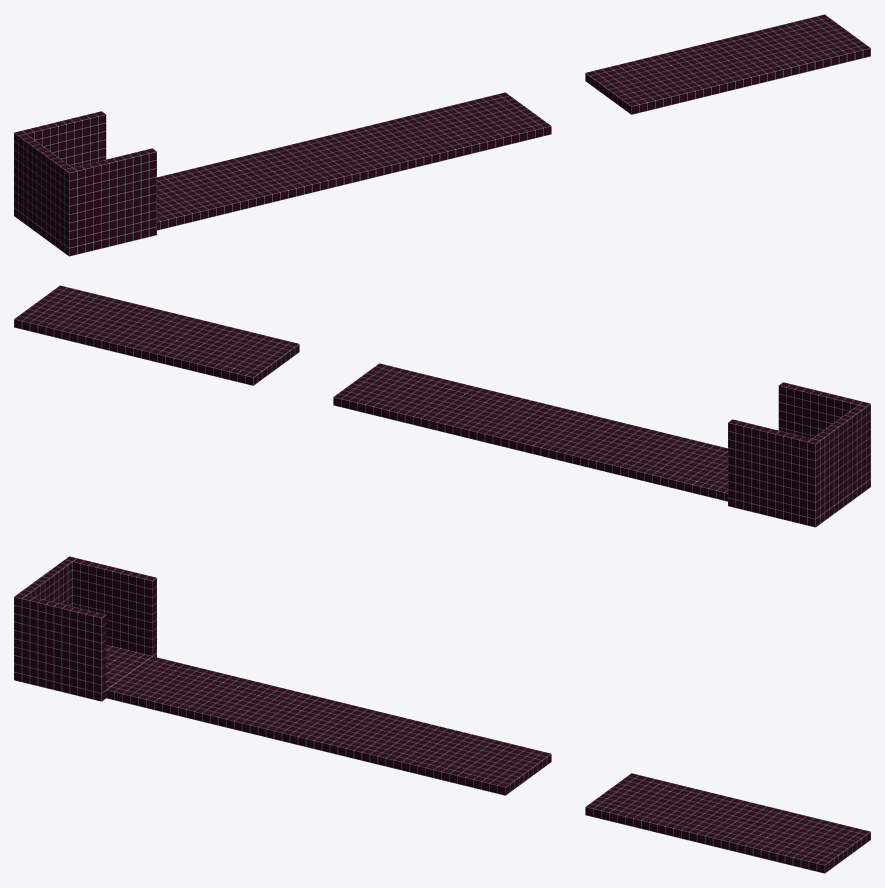
The model's file is StartPlatform.fbx.
3 views of the same model, one above another, from view 1: azimuth 30°, elevation 25°; view 2: azimuth 150°, elevation 25°; view 3: azimuth 330°, elevation 25° (orthographic).
Visible parts, largest first — view 1: RunningPlatform, StartPlatform; view 2: RunningPlatform, StartPlatform; view 3: RunningPlatform, StartPlatform.
Boxes of the visible parts, <box> form: RunningPlatform: <box>157,14,870,230</box>; StartPlatform: <box>14,111,156,256</box>; RunningPlatform: <box>14,285,727,501</box>; StartPlatform: <box>728,382,870,527</box>; RunningPlatform: <box>106,656,870,873</box>; StartPlatform: <box>14,556,156,701</box>.
Bounding box in the file's own units: 10100 × 1000 × 1200.
